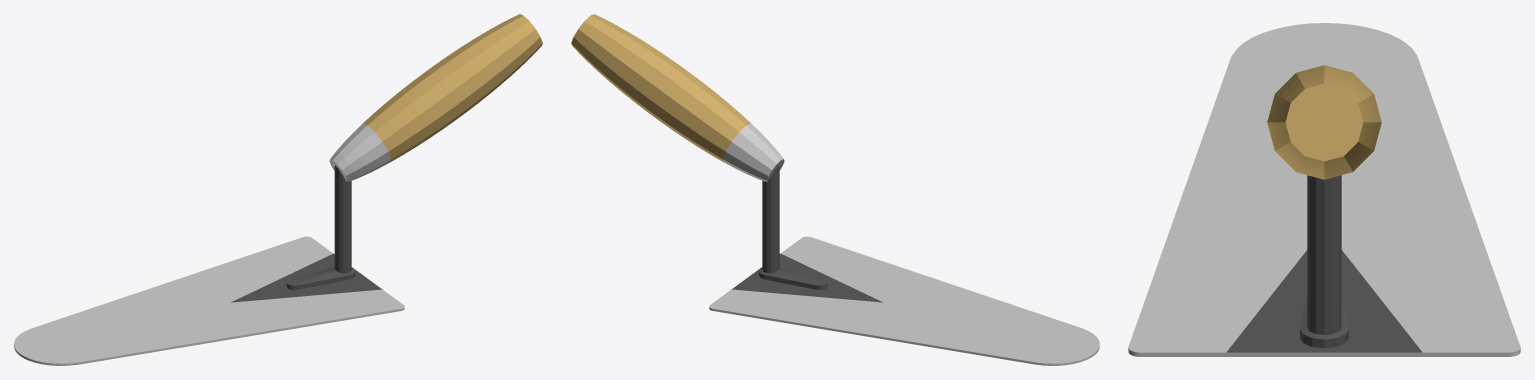
The model's file is trowel.glb.
3 renders of one model, left to right at view 1: azimuth 30°, elevation 25°; view 2: azimuth 150°, elevation 25°; view 3: azimuth 270°, elevation 25°, orthographic. The views are drawn at different scales.
Parts seen in each view (by area): view 1: Object_4, Object_6, Object_5; view 2: Object_4, Object_6, Object_5; view 3: Object_4, Object_5, Object_6.
Part boxes in pixels (x1,y1,x2,y2): Object_4: [14, 123, 404, 365]; Object_6: [363, 14, 542, 161]; Object_5: [231, 165, 382, 302]; Object_4: [709, 123, 1099, 365]; Object_6: [571, 14, 750, 162]; Object_5: [732, 165, 882, 302]; Object_4: [1128, 23, 1520, 356]; Object_5: [1226, 175, 1422, 352]; Object_6: [1267, 65, 1381, 179].
Size of the model in its own units: 0.2433 by 0.0977 by 0.0798.
